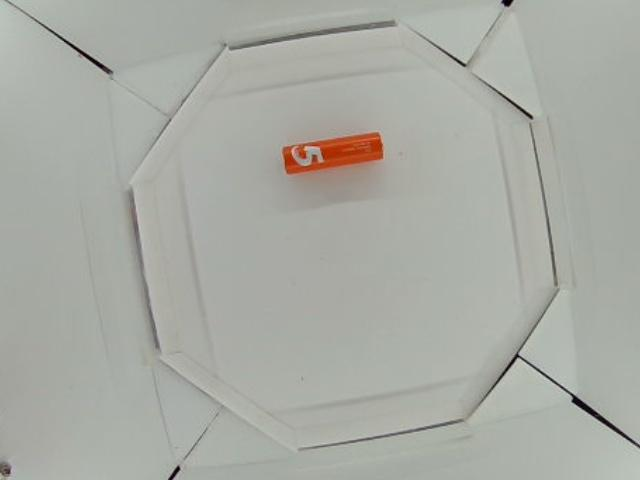Battery: (284, 133, 386, 169)
